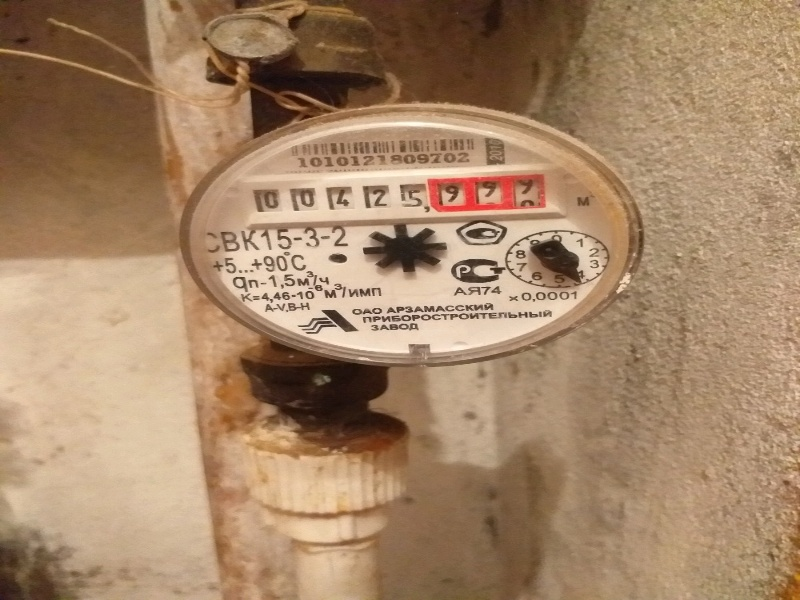meter: (244, 176, 544, 214)
